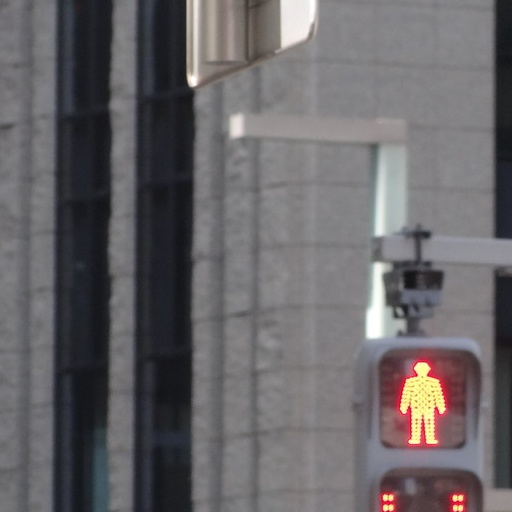Pedestrian_Signal_Red: (370, 325, 483, 511)
